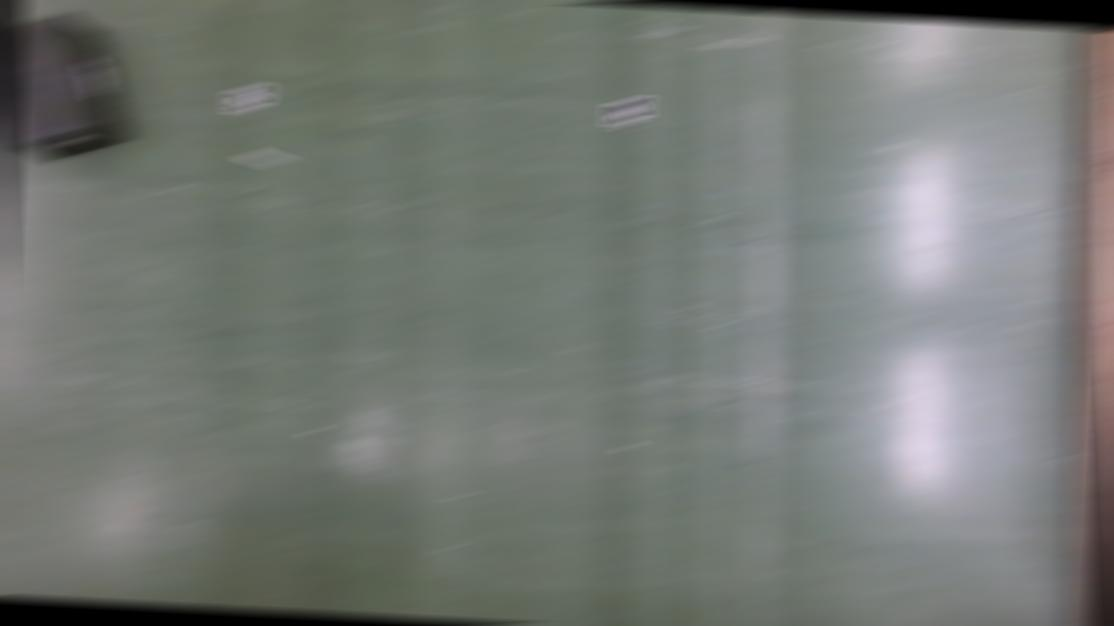probes: (241, 151, 290, 166)
rako: (2, 12, 134, 164)
